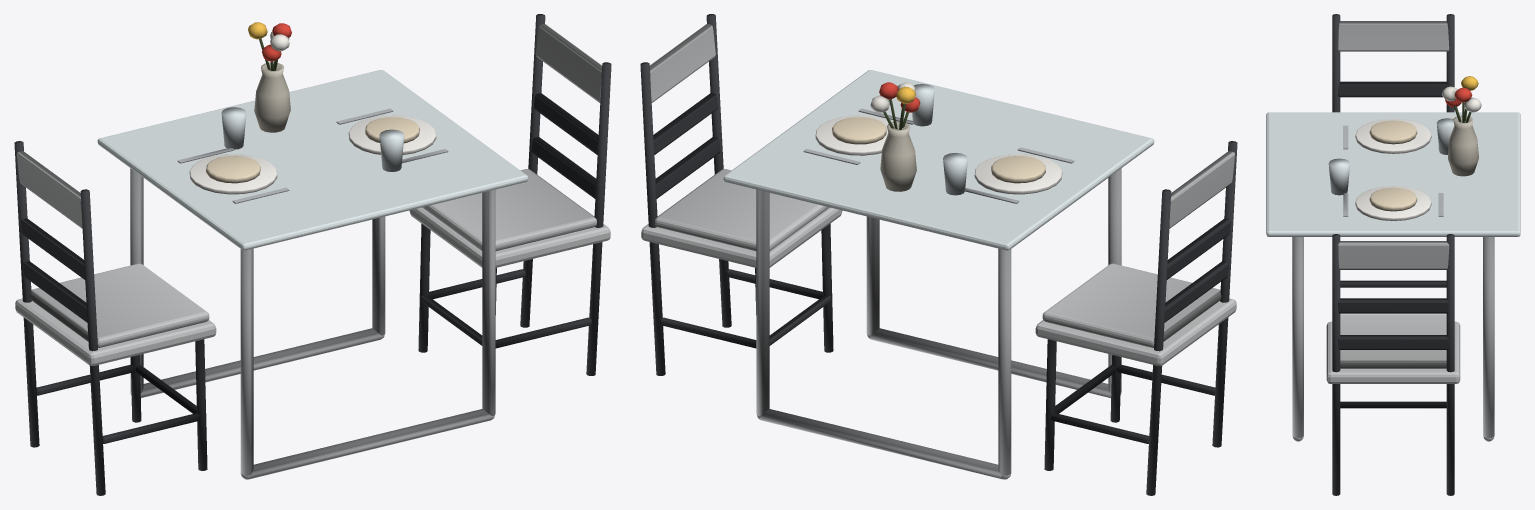
The model's file is diningGlass.glb.
3 views of the same model, side by side, from view 1: azimuth 30°, elevation 25°; view 2: azimuth 150°, elevation 25°; view 3: azimuth 270°, elevation 25° (orthographic). The views are drawn at different scales.
Parts seen in each view (by area): view 1: diningGlass; view 2: diningGlass; view 3: diningGlass.
Part boxes in pixels (box(x1,y1,x2,y2)): diningGlass: box(14, 14, 611, 495); diningGlass: box(640, 14, 1237, 495); diningGlass: box(1266, 14, 1520, 495).
Size of the model in its own units: 1.67 by 1.07 by 0.8.
